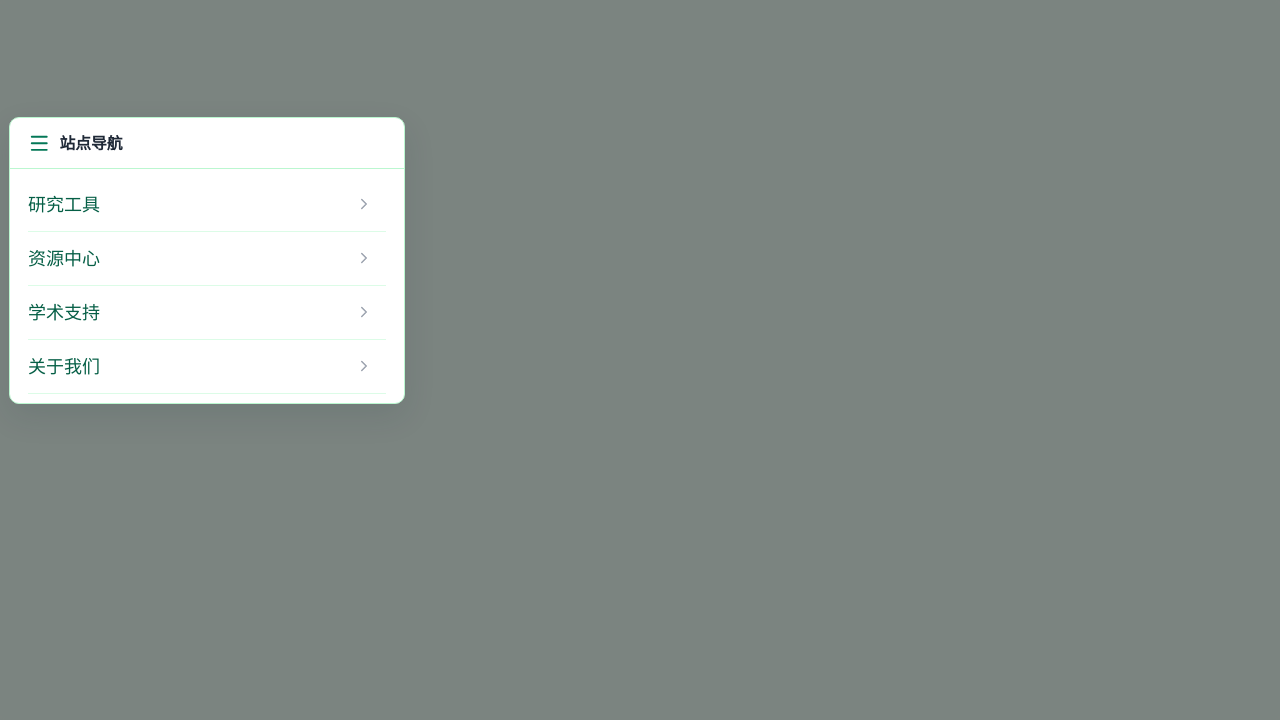
Test: MobileSiteMenu › uses the same interaction for nested links with children
Click the button "研究工具" at (64, 204), box x1=28 y1=182 x2=341 y2=226
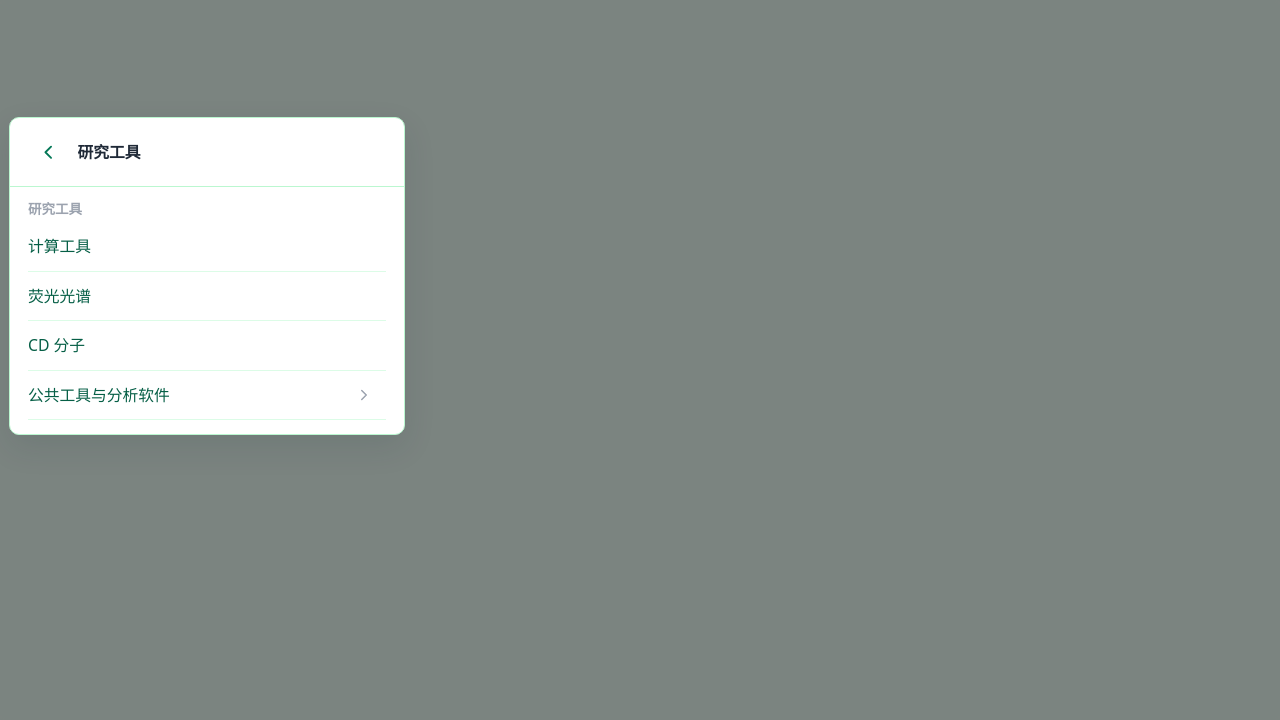
Click the button "公共工具与分析软件" at (99, 395), box x1=28 y1=373 x2=341 y2=418
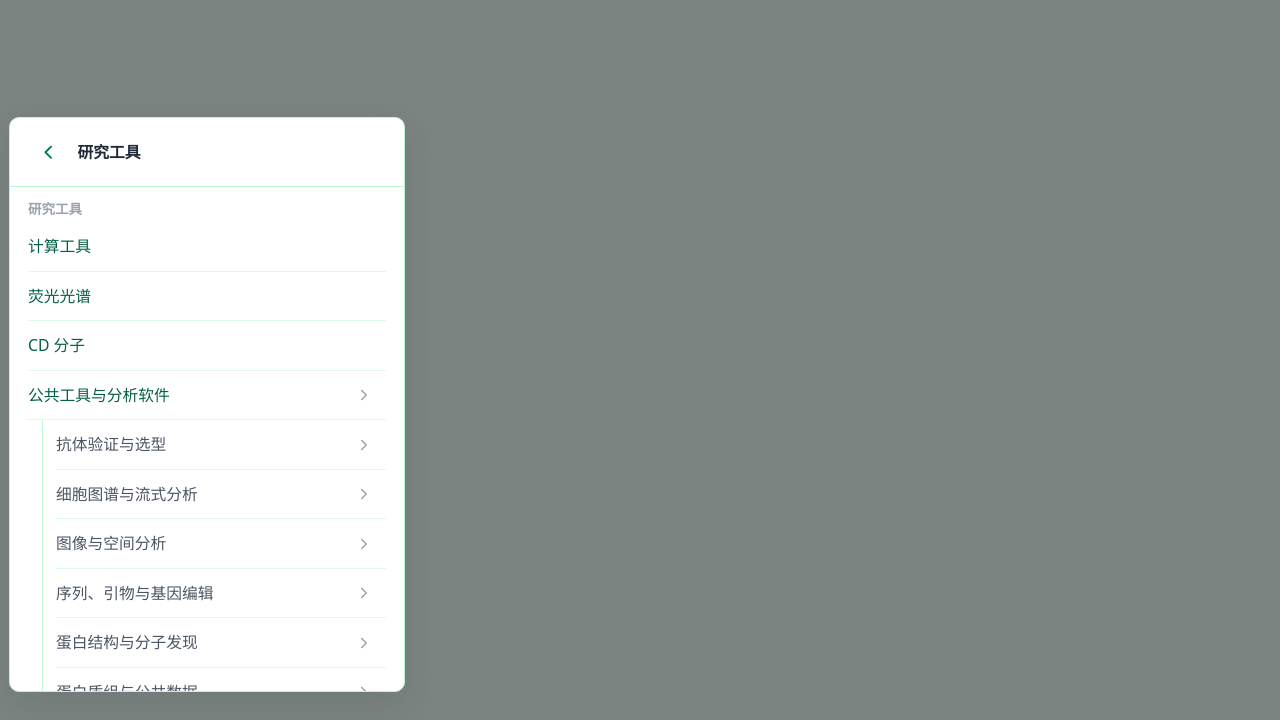
Check: the button "抗体验证与选型" is shown, box x1=56 y1=422 x2=341 y2=467
